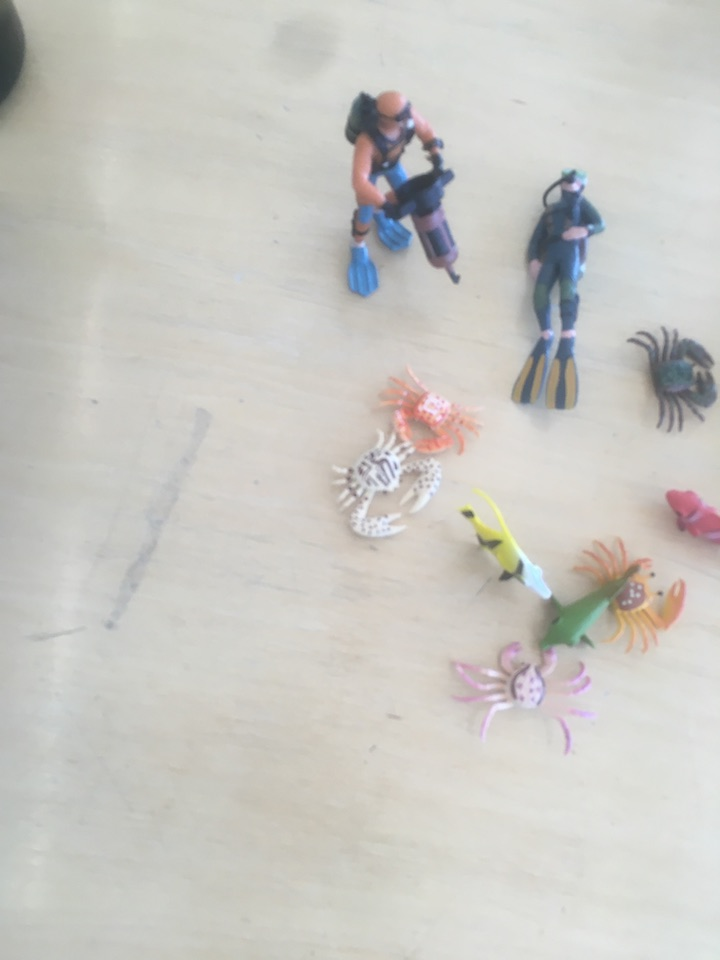crab: (445, 636, 604, 758), (570, 530, 690, 665), (327, 430, 443, 540), (370, 361, 487, 464), (625, 319, 720, 436)
danger: (452, 484, 559, 607)
diver: (340, 86, 470, 304), (509, 165, 608, 415)
fish: (528, 557, 647, 656), (659, 484, 720, 551)
